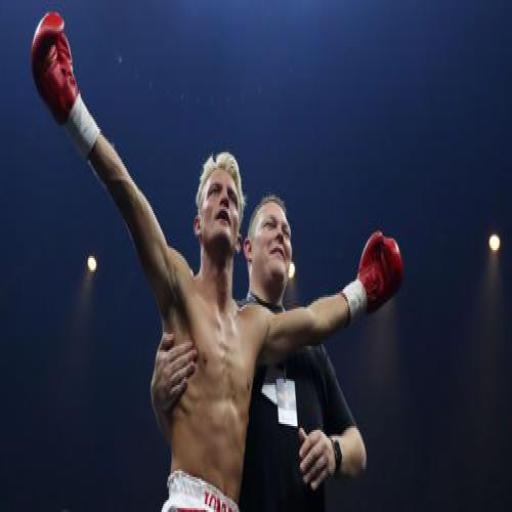boxing: (30, 10, 402, 508)
